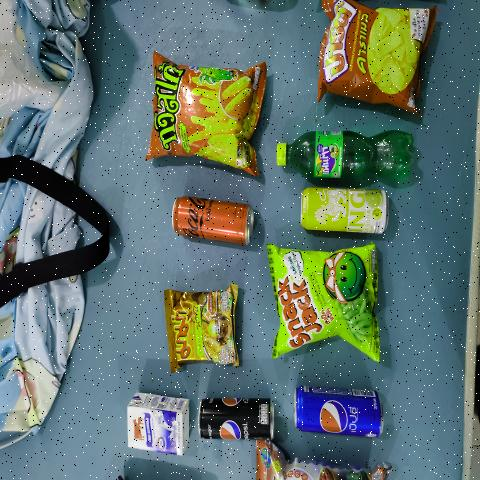coke_red: (171, 192, 259, 246)
fanta_green: (271, 129, 429, 183)
mama: (164, 288, 237, 361)
party_red: (333, 6, 418, 104)
pepsi_black: (197, 395, 273, 442)
pepsi_blue: (293, 382, 389, 444)
singha_yellow: (298, 183, 392, 236)
snack_jack: (272, 238, 390, 364)
thai_denmark: (122, 394, 190, 454)
twisco: (156, 61, 262, 173)
